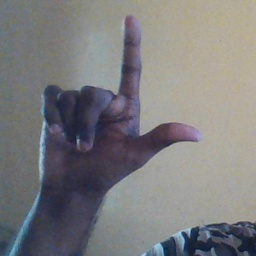L: (36, 17, 206, 187)
